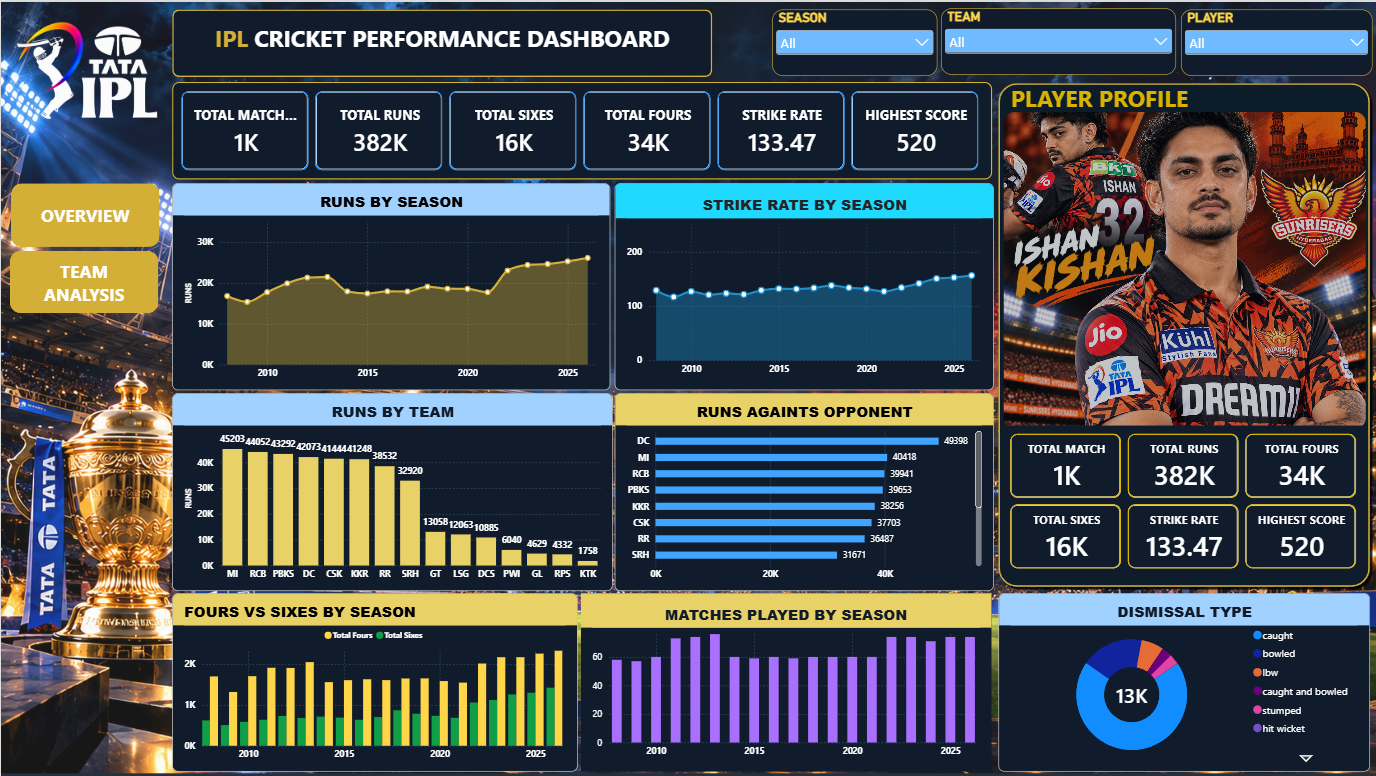

The dashboard page shown, as its layout file describes it:
{"tool":"powerbi","page":{"name":"OVERVIEW","canvas":[1920,1080],"ordinal":0},"visuals":[{"type":"shape","box":[239,10.5,753.5,94.2],"z":0},{"type":"shape","box":[1386.2,108.6,528.4,713],"z":0,"group":"g1"},{"type":"cardVisual","fields":{"Data":["IPL.Total Matches","IPL.Total Runs","IPL.Total Sixes","IPL.Total Fours","IPL.Strike Rate","IPL.Highest Score"]},"box":[238.2,110.9,1143.6,136.4],"z":1000},{"type":"lineChart","title":"RUNS BY SEASON","fields":{"Category":["Calendar.Year"],"Y":["IPL.Total Runs"]},"box":[238.2,252.7,614.5,289.1],"z":2000},{"type":"slicer","fields":{"Values":["IPL.batting_team"]},"box":[1311.6,8.7,327.9,92.4],"z":3000},{"type":"slicer","fields":{"Values":["image.NAME"]},"box":[1646.5,10.5,266.9,92.4],"z":4000},{"type":"textbox","box":[252.9,10.5,725.7,94.1],"z":5000},{"type":"slicer","fields":{"Values":["Calendar.Year"]},"box":[1076.2,10.5,230.2,92.4],"z":6000},{"type":"clusteredBarChart","title":"TOP 10 PLAYERS BY RUNS","fields":{"Category":["Players.Player"],"Y":["IPL.Total Runs"]},"box":[861.8,252.7,520,287.3],"z":7000},{"type":"clusteredColumnChart","title":"RUNS IN TEAM","fields":{"Category":["IPL.Team Short"],"Y":["IPL.Total Runs"]},"box":[238.2,545.5,410.9,276.4],"z":8000},{"type":"donutChart","title":"DISMISSAL TYPE","fields":{"Category":["IPL.wicket_kind"],"Y":["IPL.Total Wickets"]},"box":[656.4,545.5,256.4,276.4],"z":9000},{"type":"clusteredBarChart","title":"RUNS AGAINTS OPPONENT","fields":{"Category":["IPL.Bowling Team Short"],"Y":["IPL.Total Runs"]},"box":[918.2,545.5,463.6,276.4],"z":10000},{"type":"clusteredColumnChart","title":"FOURS VS SIXES BY SEASON","fields":{"Category":["Calendar.Year"],"Y":["IPL.Total Fours","IPL.Total Sixes"]},"box":[238.2,825.5,565.5,249.1],"z":11000},{"type":"clusteredColumnChart","title":"MATCHES PLAYED BY SEASON","fields":{"Category":["Calendar.Year"],"Y":["IPL.Matches by Season"]},"box":[809.1,825.5,572.7,249.1],"z":12000},{"type":"lineChart","title":"STRIKE RATE BY SEASON","fields":{"Category":["Calendar.Year"],"Y":["IPL.Strike Rate"]},"box":[1385.5,821.8,529.1,258.2],"z":13000},{"type":"image","box":[5.5,10.9,223.6,167.3],"z":14000},{"type":"group","id":"g1","title":"Group 1","box":[1386.2,108.6,528.4,713],"z":15000},{"type":"textbox","box":[1398.2,110.9,320,67.3],"z":15000,"group":"g1"},{"type":"image","box":[1398.2,154.6,505.5,441.8],"z":16000,"group":"g1"},{"type":"actionButton","box":[12.2,350.6,207.6,87.2],"z":16000},{"type":"actionButton","box":[12.2,443,207.6,89],"z":17000},{"type":"cardVisual","fields":{"Data":["IPL.Total Matches","IPL.Total Runs","IPL.Total Fours","IPL.Total Sixes","IPL.Strike Rate","IPL.Highest Score"]},"box":[1396.4,590.9,505.5,210.9],"z":17000,"group":"g1"},{"type":"actionButton","box":[12.2,256.4,207.6,89],"z":18000}]}

Visuals, with their boxes in screenshot pixels (x1, y1, x2, y2), scaled from the page's 1920x1080 canvas onto the 1376x776 screenshot:
shape: (left=171, top=8, right=711, bottom=75)
shape: (left=993, top=78, right=1372, bottom=590)
cardVisual - IPL.Total Matches x IPL.Total Runs: (left=171, top=80, right=990, bottom=178)
"RUNS BY SEASON" lineChart: (left=171, top=182, right=611, bottom=389)
slicer - IPL.batting_team: (left=940, top=6, right=1175, bottom=73)
slicer - image.NAME: (left=1180, top=8, right=1371, bottom=74)
textbox: (left=181, top=8, right=701, bottom=75)
slicer - Calendar.Year: (left=771, top=8, right=936, bottom=74)
"TOP 10 PLAYERS BY RUNS" clusteredBarChart: (left=618, top=182, right=990, bottom=388)
"RUNS IN TEAM" clusteredColumnChart: (left=171, top=392, right=465, bottom=591)
"DISMISSAL TYPE" donutChart: (left=470, top=392, right=654, bottom=591)
"RUNS AGAINTS OPPONENT" clusteredBarChart: (left=658, top=392, right=990, bottom=591)
"FOURS VS SIXES BY SEASON" clusteredColumnChart: (left=171, top=593, right=576, bottom=772)
"MATCHES PLAYED BY SEASON" clusteredColumnChart: (left=580, top=593, right=990, bottom=772)
"STRIKE RATE BY SEASON" lineChart: (left=993, top=590, right=1372, bottom=775)
image: (left=4, top=8, right=164, bottom=128)
"Group 1" group: (left=993, top=78, right=1372, bottom=590)
textbox: (left=1002, top=80, right=1231, bottom=128)
image: (left=1002, top=111, right=1364, bottom=429)
actionButton: (left=9, top=252, right=158, bottom=315)
actionButton: (left=9, top=318, right=158, bottom=382)
cardVisual - IPL.Total Matches x IPL.Total Runs: (left=1001, top=425, right=1363, bottom=576)
actionButton: (left=9, top=184, right=158, bottom=248)
